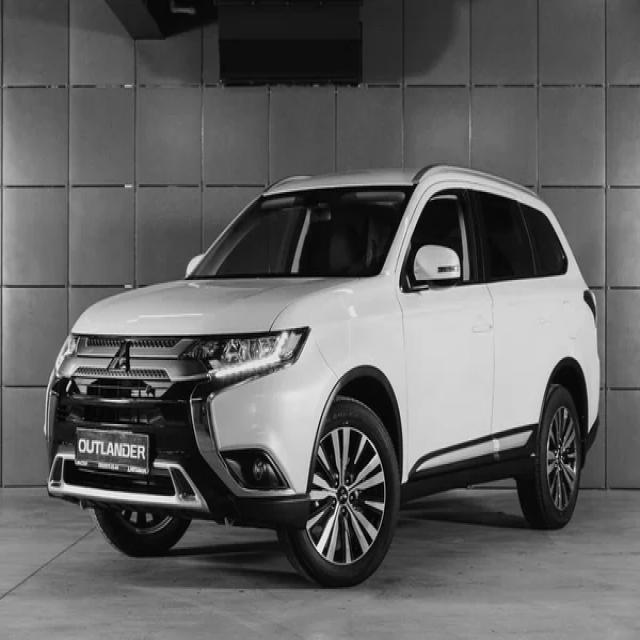Car: (45, 165, 600, 588)
